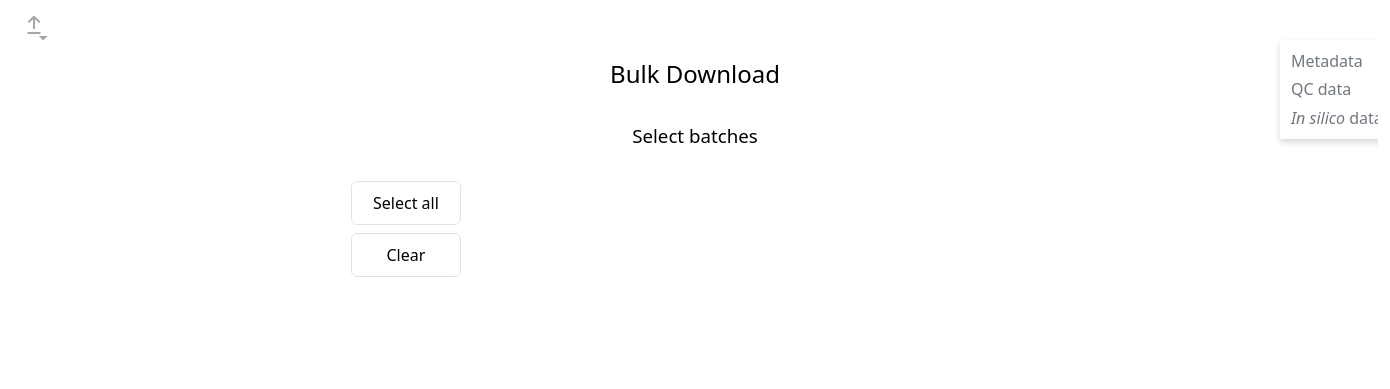
Test case: once batches are fetched › displays the metadata download button
This screenshot has width=1390, height=389.
Click the button "Select all": x=406, y=203 [351,181,461,225]
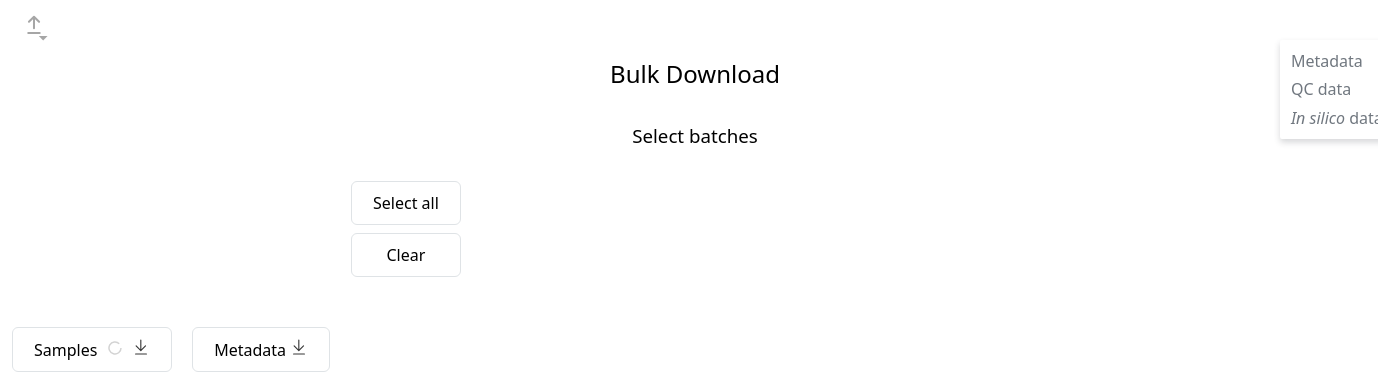
Expected: the button with aria-label "Download metadata" is shown, [192,327,330,372]
